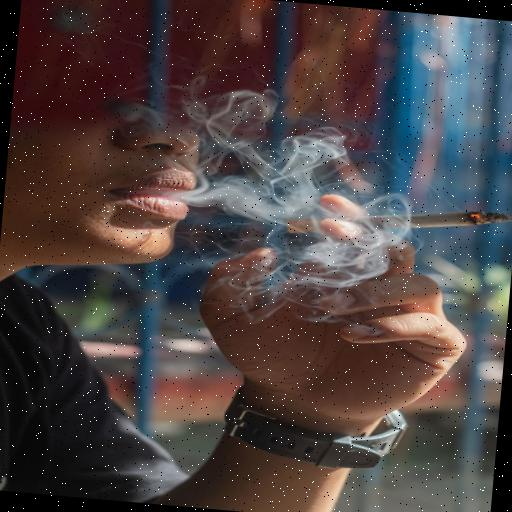pegang rokok: (249, 146, 512, 363)
